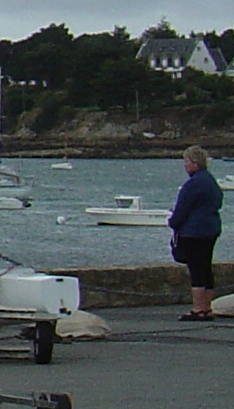person: (166, 144, 226, 319)
